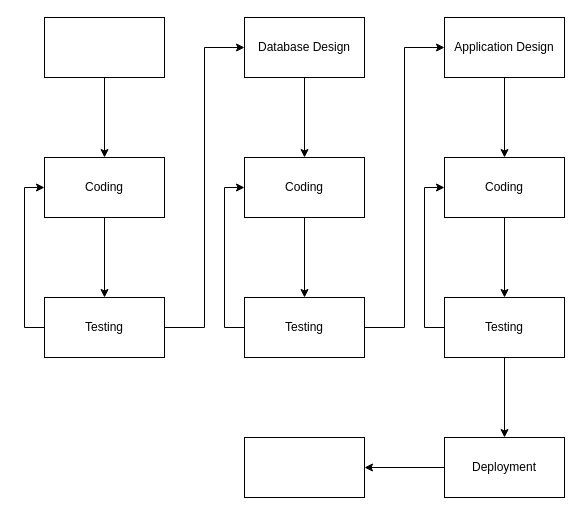
Image size: 582x515. Some labels were removed from this diagram. The shapes that lost their labels are listed below. From the top down, each one's box as (x1, y1, x2, y2) in pixels, then its label:
(44, 16, 164, 78): User Interface Design
(244, 436, 364, 498): Maintenance
